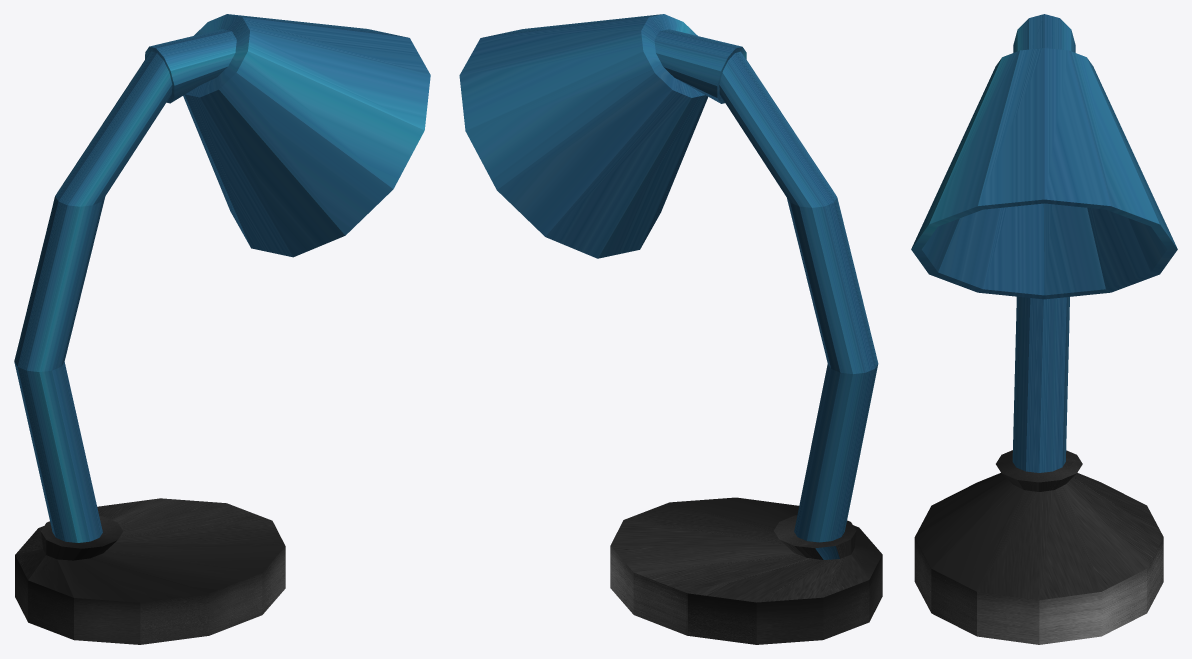
File: Lamn.fbx
3 renders of one model, left to right at view 1: azimuth 30°, elevation 25°; view 2: azimuth 150°, elevation 25°; view 3: azimuth 270°, elevation 25°, orthographic. The views are drawn at different scales.
Parts seen in each view (by area): view 1: Cylinder; view 2: Cylinder; view 3: Cylinder.
Boxes of the visible parts, x1,y1,x2,y2 form: Cylinder: (14,14,430,644); Cylinder: (459,14,882,644); Cylinder: (911,14,1177,644).
Size of the model in its own units: 94.69 by 127 by 52.71.
